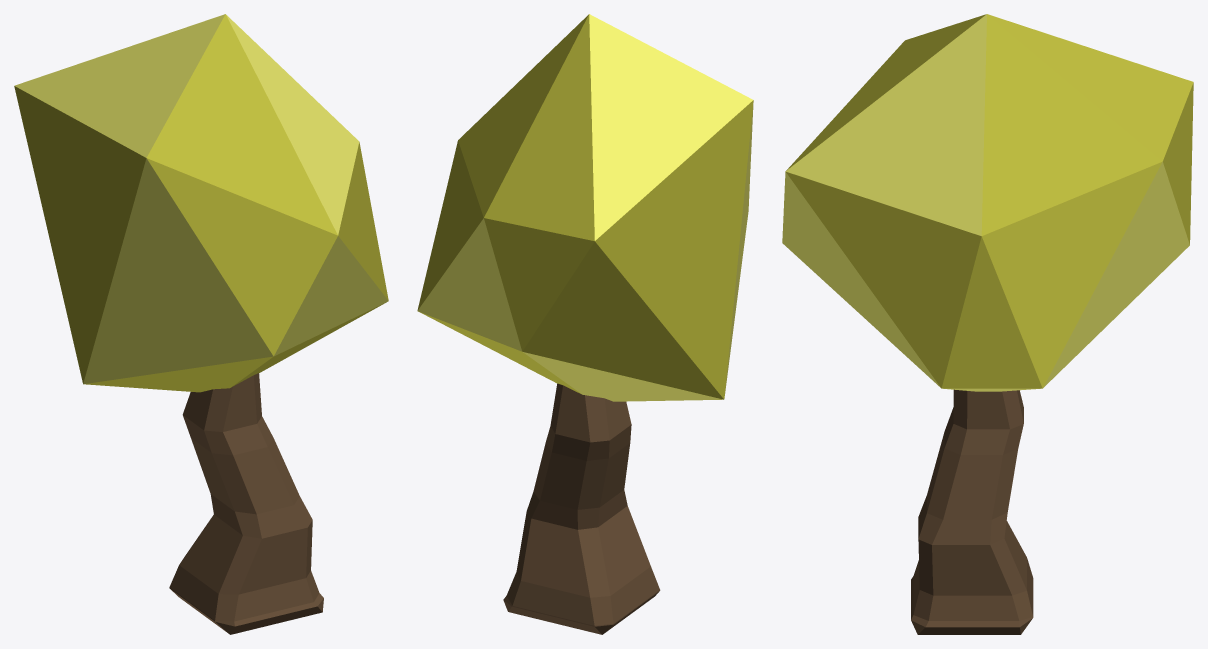
Rendered from Tree_1_Yellow.fbx.
The picture shows the model from 3 angles, left to right: view 1: azimuth 30°, elevation 25°; view 2: azimuth 150°, elevation 25°; view 3: azimuth 270°, elevation 25°; orthographic projection. The views are drawn at different scales.
Parts seen in each view (by area): view 1: Tree_1_Yellow_Part_2, Tree_1_Yellow_Part_3, Tree_1_Yellow_Part_1; view 2: Tree_1_Yellow_Part_2, Tree_1_Yellow_Part_3, Tree_1_Yellow_Part_1; view 3: Tree_1_Yellow_Part_2, Tree_1_Yellow_Part_3, Tree_1_Yellow_Part_1.
Part boxes in pixels (x1,y1,x2,y2): Tree_1_Yellow_Part_2: (14,14,388,392); Tree_1_Yellow_Part_3: (14,14,388,384); Tree_1_Yellow_Part_1: (169,373,323,634); Tree_1_Yellow_Part_2: (417,14,753,399); Tree_1_Yellow_Part_3: (417,14,753,401); Tree_1_Yellow_Part_1: (503,383,660,634); Tree_1_Yellow_Part_2: (785,14,1193,388); Tree_1_Yellow_Part_3: (782,14,1189,391); Tree_1_Yellow_Part_1: (911,389,1033,634).
Size of the model in its own units: 302 by 610 by 385.
